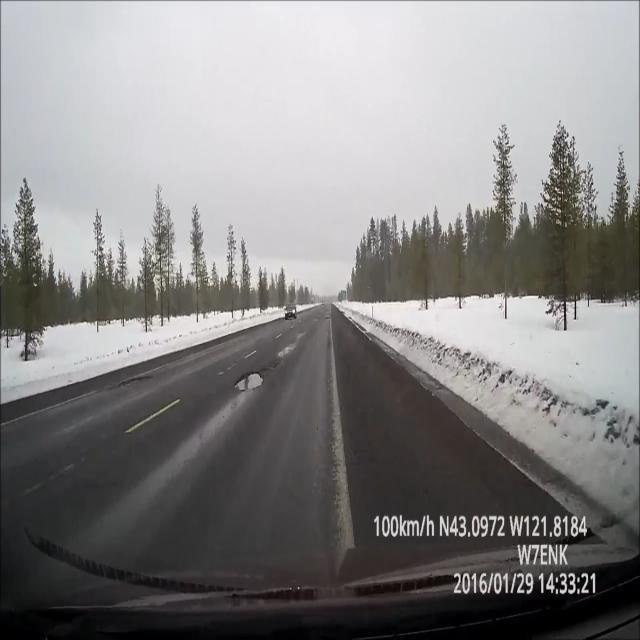pothole: (230, 358, 277, 396)
